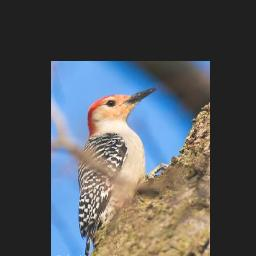Woodpecker: (78, 85, 158, 256)
